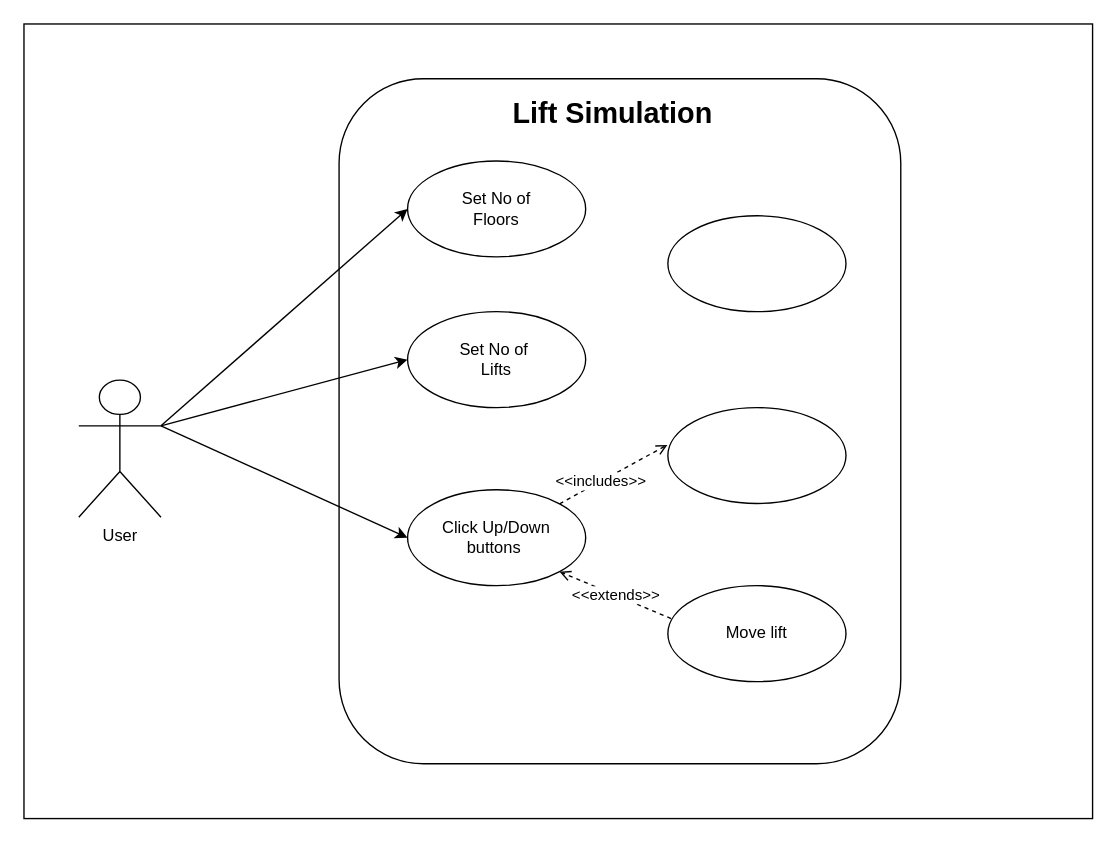
This 1117x843 diagram has some shape labels left out. The centre of each missing label's shape, as x and y in pixels:
Door Animation: pixel 756 454
Lift Scheduling Policy: pixel 756 263
